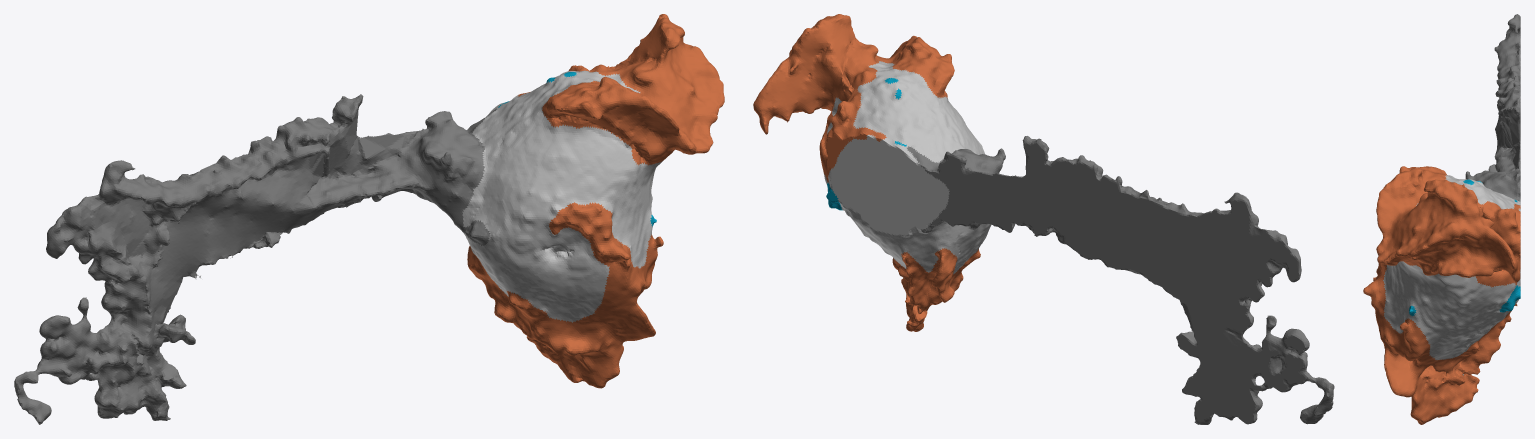
3 renders of one model, left to right at view 1: azimuth 30°, elevation 25°; view 2: azimuth 150°, elevation 25°; view 3: azimuth 270°, elevation 25°, orthographic. The views are drawn at different scales.
Size of the model in its own units: 312 by 152 by 78.54.
